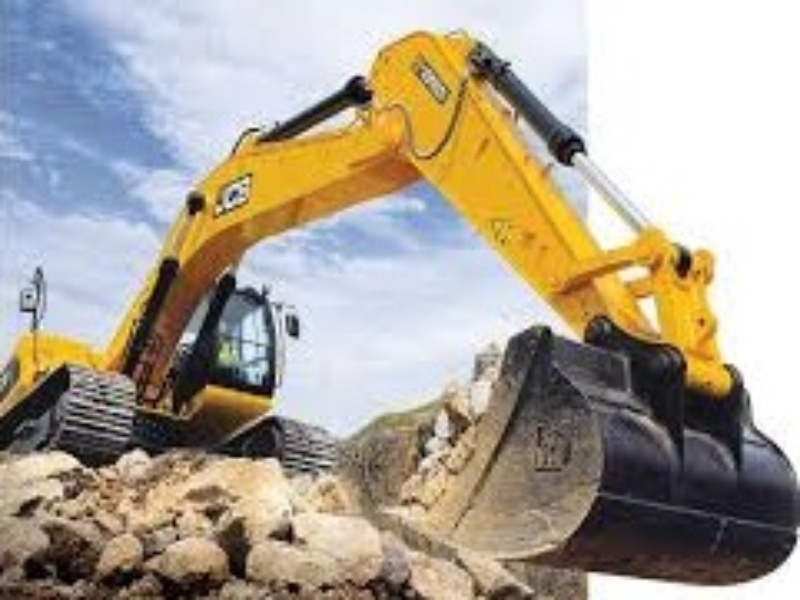wajueji: (8, 181, 369, 493)
